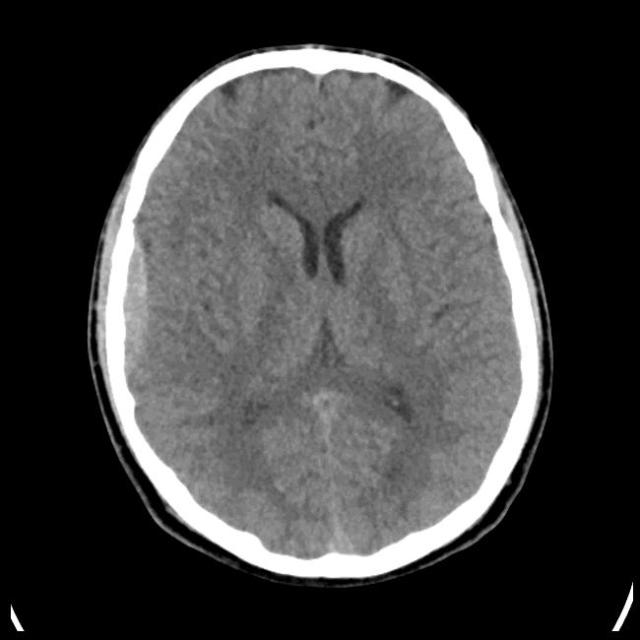lesion: (94, 47, 548, 579)
